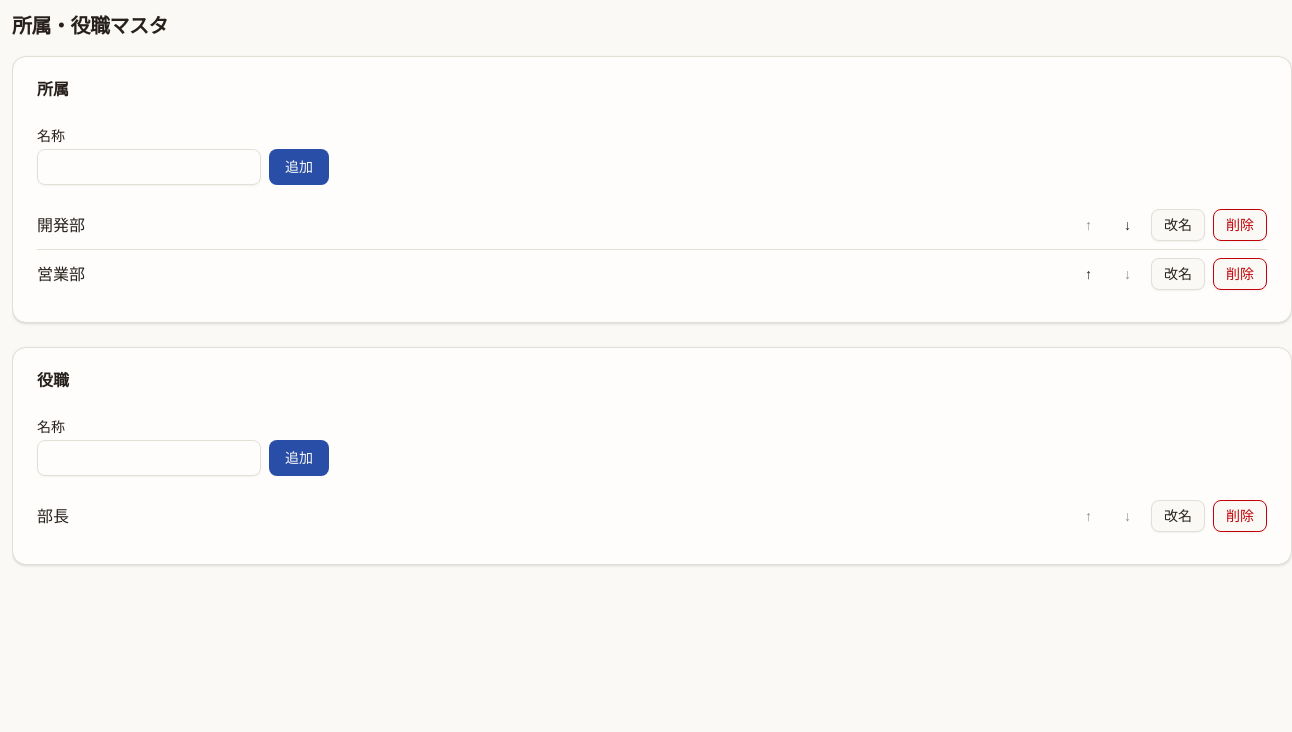
Test case: AdminMastersPage › 並び替えの2回目のPATCHが失敗したら1回目を元に戻す
This screenshot has width=1292, height=732.
Expected: the text "開発部" is shown, [37,214,85,236]
Step 1. Click the button named "開発部 を下へ" → (1128, 225), box [1112,209,1143,241]
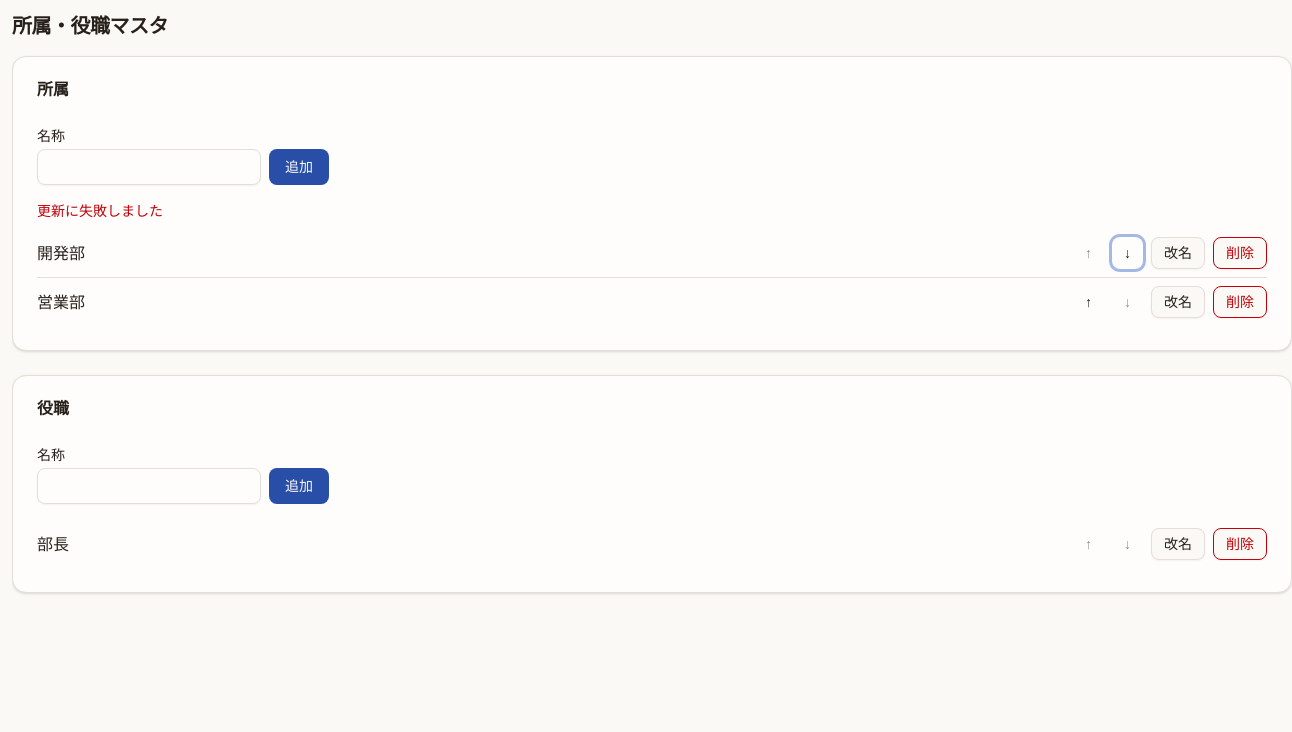
Now the message reads "更新に失敗しました", box [37,201,163,220]
